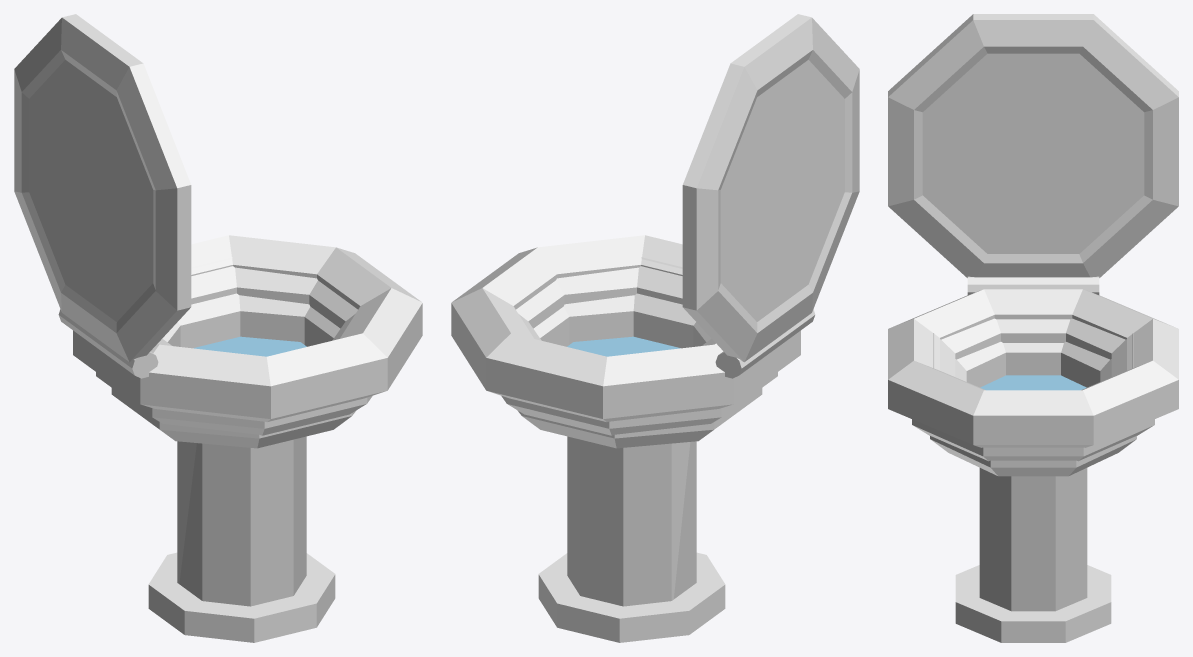
3 renders of one model, left to right at view 1: azimuth 30°, elevation 25°; view 2: azimuth 150°, elevation 25°; view 3: azimuth 270°, elevation 25°, orthographic. The views are drawn at different scales.
Parts seen in each view (by area): view 1: torus, cylinder, torus_1, cylinder_2, torus_3, cylinder_3, torus_2, cylinder_1, cylinder_4; view 2: torus, cylinder, torus_1, cylinder_2, torus_3, cylinder_3, torus_2, cylinder_1, cylinder_4; view 3: cylinder, torus_1, torus, cylinder_2, torus_2, torus_3, cylinder_3, cylinder_4, cylinder_1.
Part boxes in pixels (<box>): torus: <box>73,235,422,421</box>; cylinder: <box>29,60,153,321</box>; torus_1: <box>14,14,191,362</box>; cylinder_2: <box>177,436,306,606</box>; torus_3: <box>111,293,356,448</box>; cylinder_3: <box>148,552,335,642</box>; torus_2: <box>96,257,372,435</box>; cylinder_1: <box>193,336,306,356</box>; cylinder_4: <box>58,309,158,378</box>; torus: <box>451,235,800,421</box>; cylinder: <box>720,60,844,321</box>; torus_1: <box>682,14,859,362</box>; cylinder_2: <box>567,436,696,606</box>; torus_3: <box>517,293,762,448</box>; cylinder_3: <box>538,552,725,642</box>; torus_2: <box>501,257,777,435</box>; cylinder_1: <box>567,336,680,356</box>; cylinder_4: <box>715,309,815,378</box>; cylinder: <box>922,53,1144,253</box>; torus_1: <box>888,14,1178,277</box>; torus: <box>888,289,1178,447</box>; cylinder_2: <box>979,468,1087,611</box>; torus_2: <box>912,318,1154,461</box>; torus_3: <box>930,342,1136,476</box>; cylinder_3: <box>955,565,1111,642</box>; cylinder_4: <box>967,276,1099,294</box>; cylinder_1: <box>980,375,1086,390</box>.
Size of the model in its own units: 20.21 by 38.41 by 19.01.
1 material, 1 textured.
